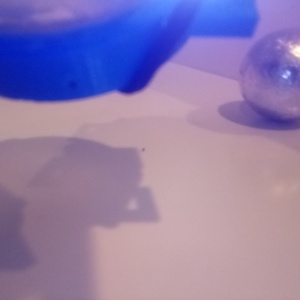alive_ball: (1, 99, 150, 300), (151, 56, 238, 146)
dead_ball: (260, 63, 300, 164)
